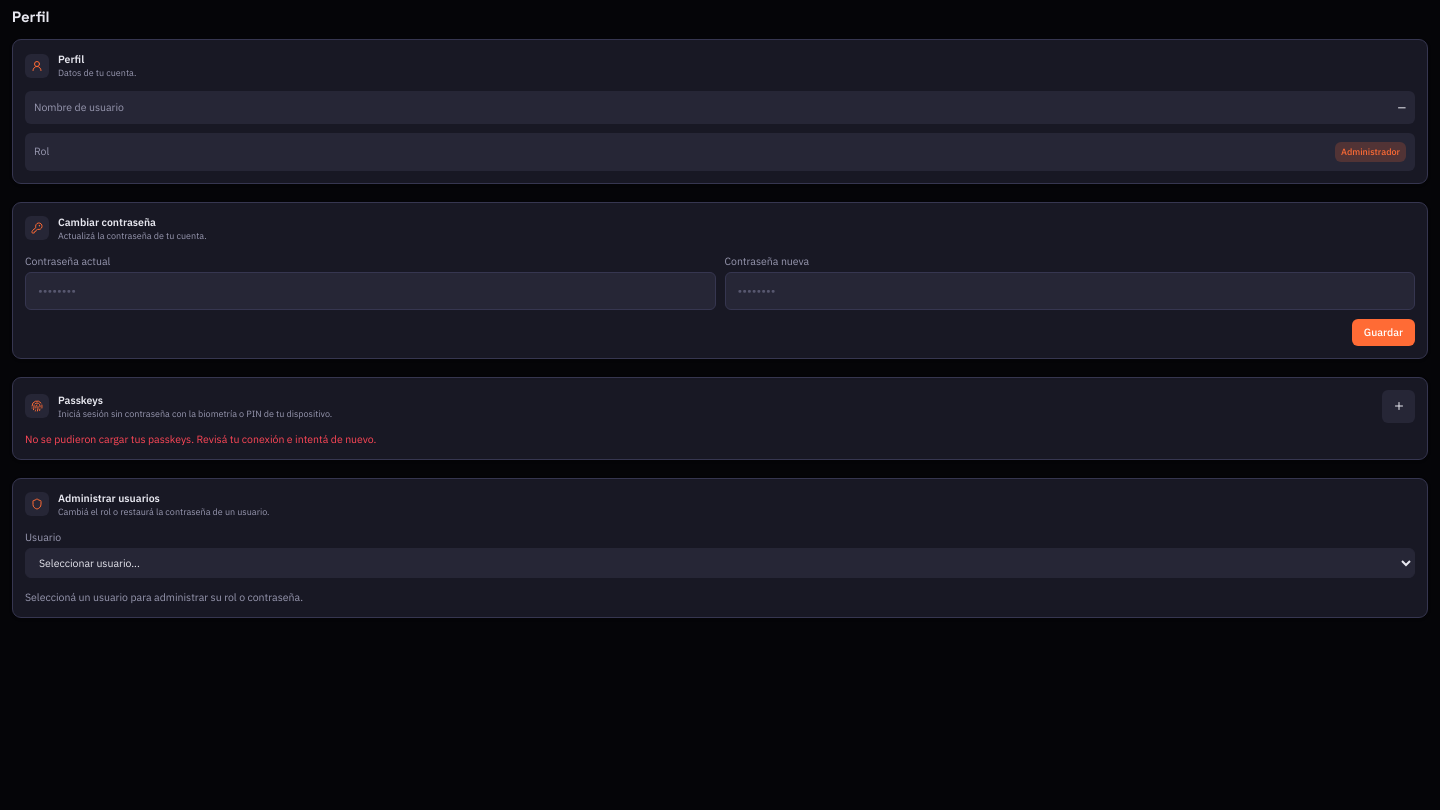
Test: Perfil: administrar usuarios (issue #99) › cambia el rol propio y refresca el token (claim "role" actualizado)
This screenshot has width=1440, height=810.
Select "admin — Administrador" in the dropdown labelled "Usuario". click: (720, 562)
box: [25, 548, 1415, 578]
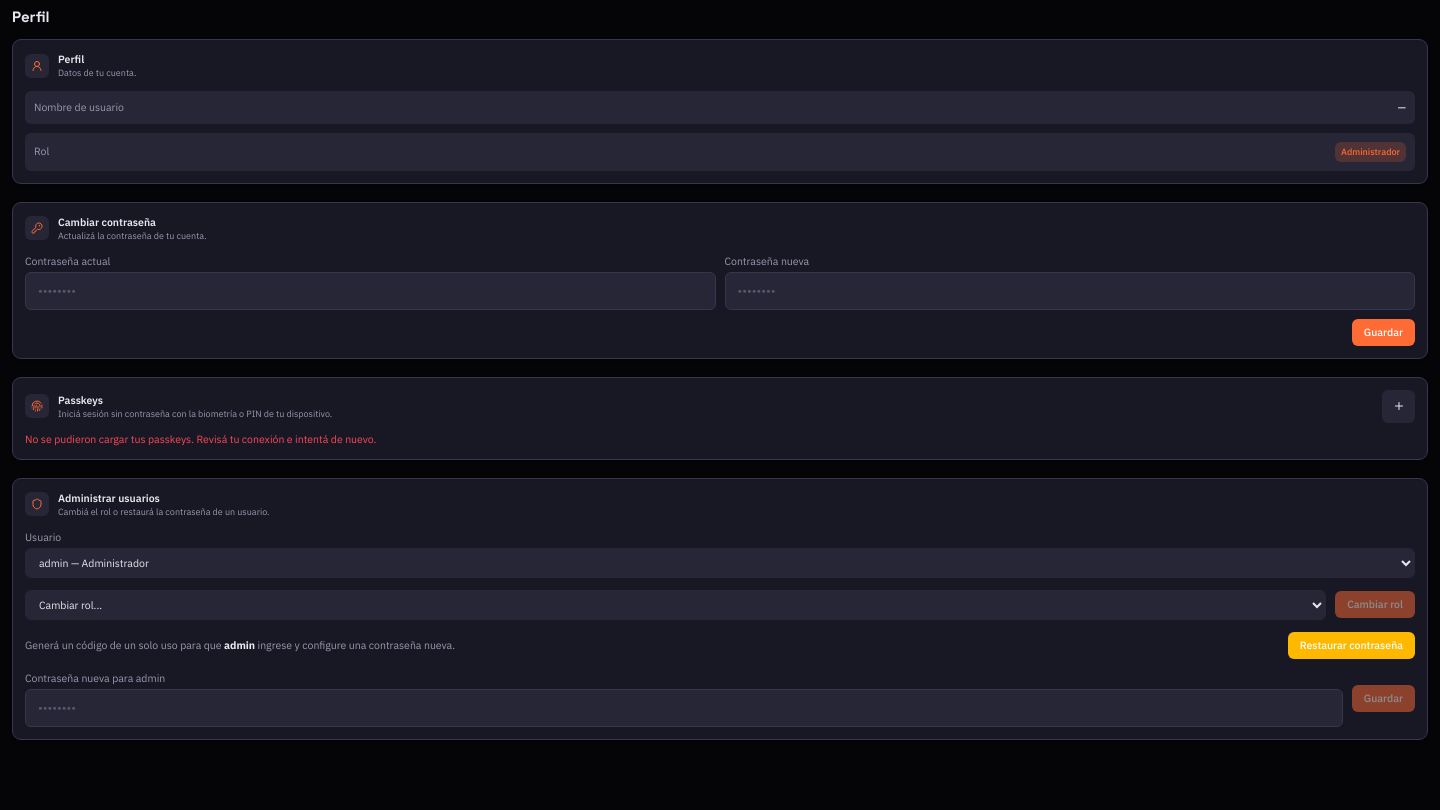
Result: the button "Restaurar contraseña" is shown at [1288, 632, 1415, 658]
Select "Empleado" in the dropdown named "Nuevo rol para admin". click: (676, 604)
box: [25, 590, 1326, 620]
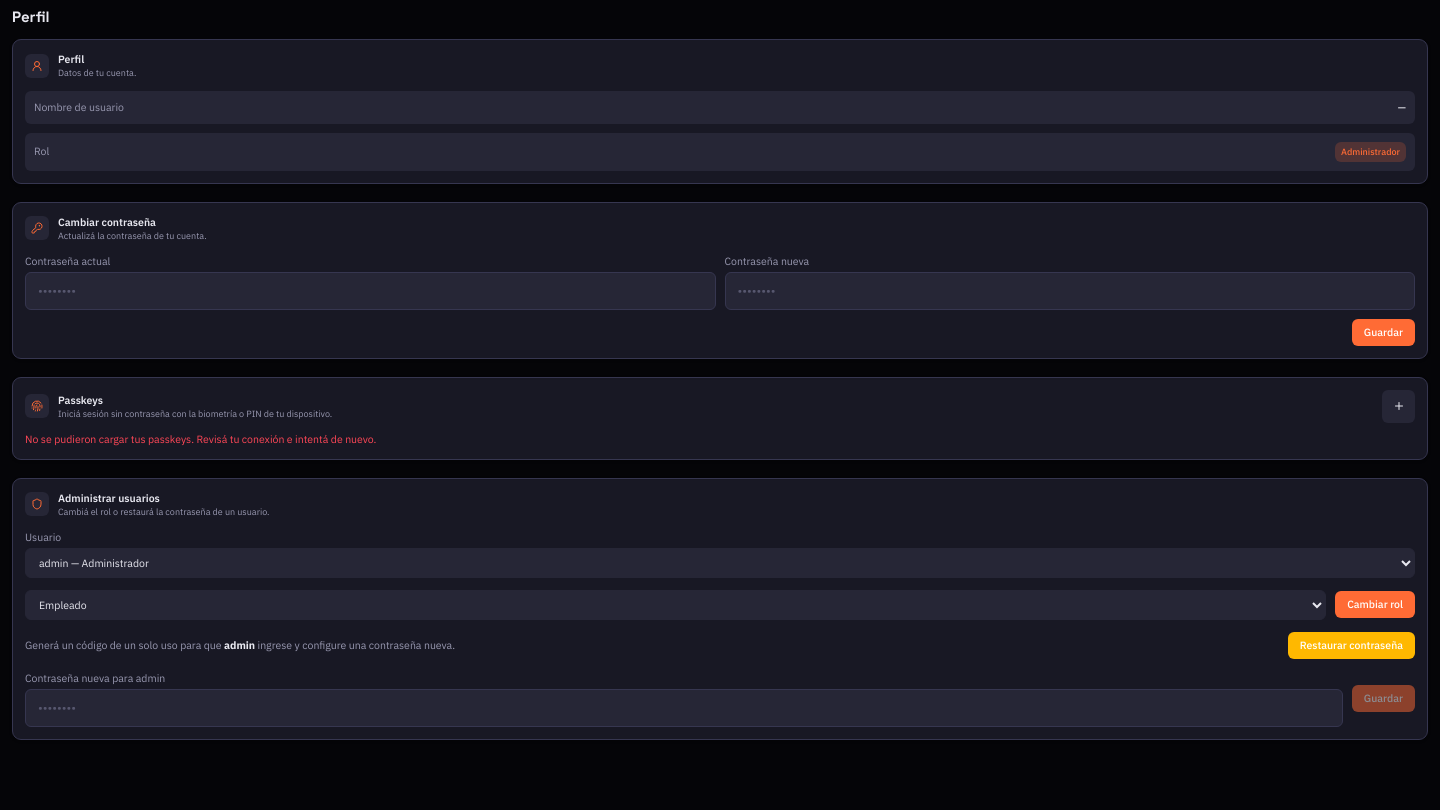
Click the button "Cambiar rol". click: (1375, 604)
box: [1335, 591, 1415, 618]
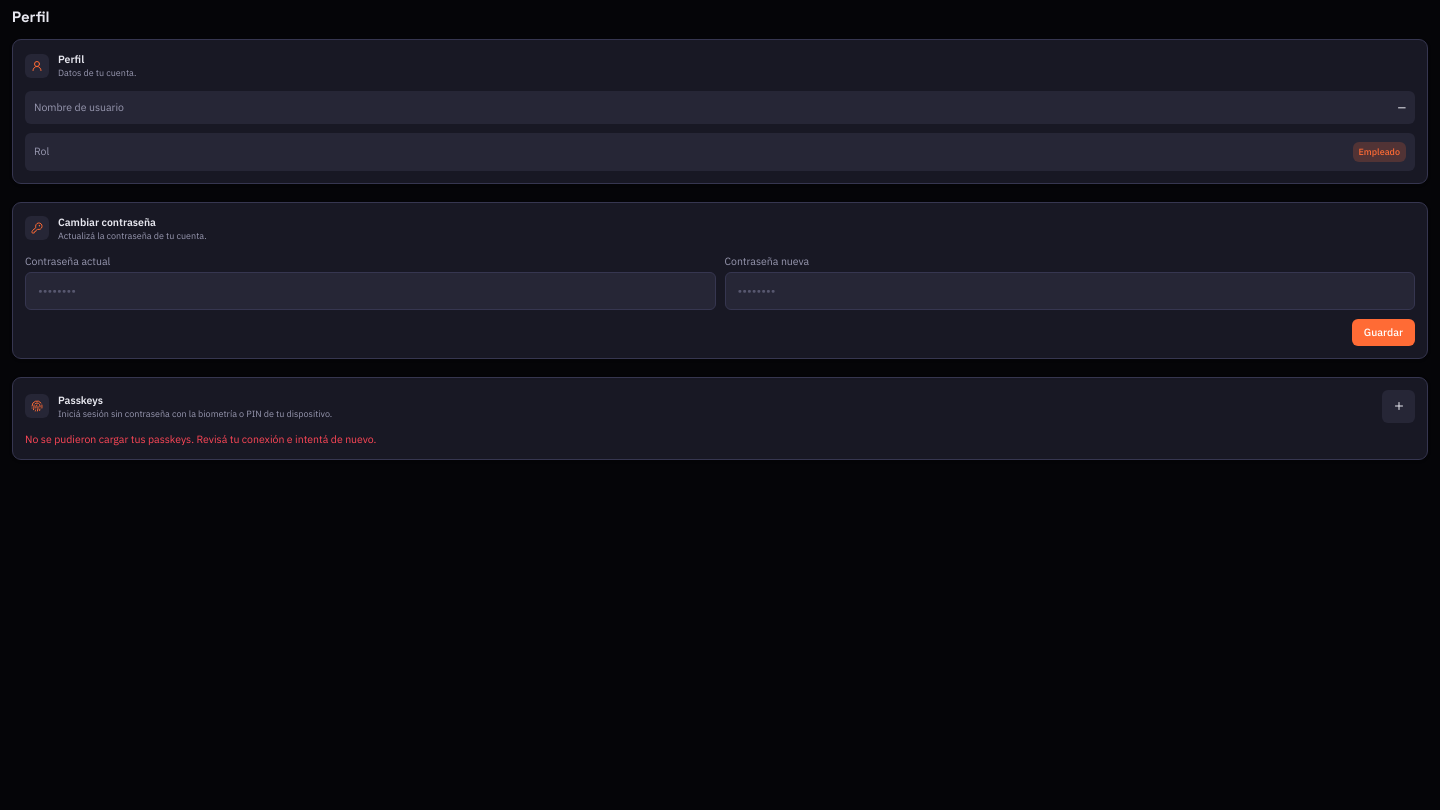
Result: the heading "Administrar usuarios" is gone
